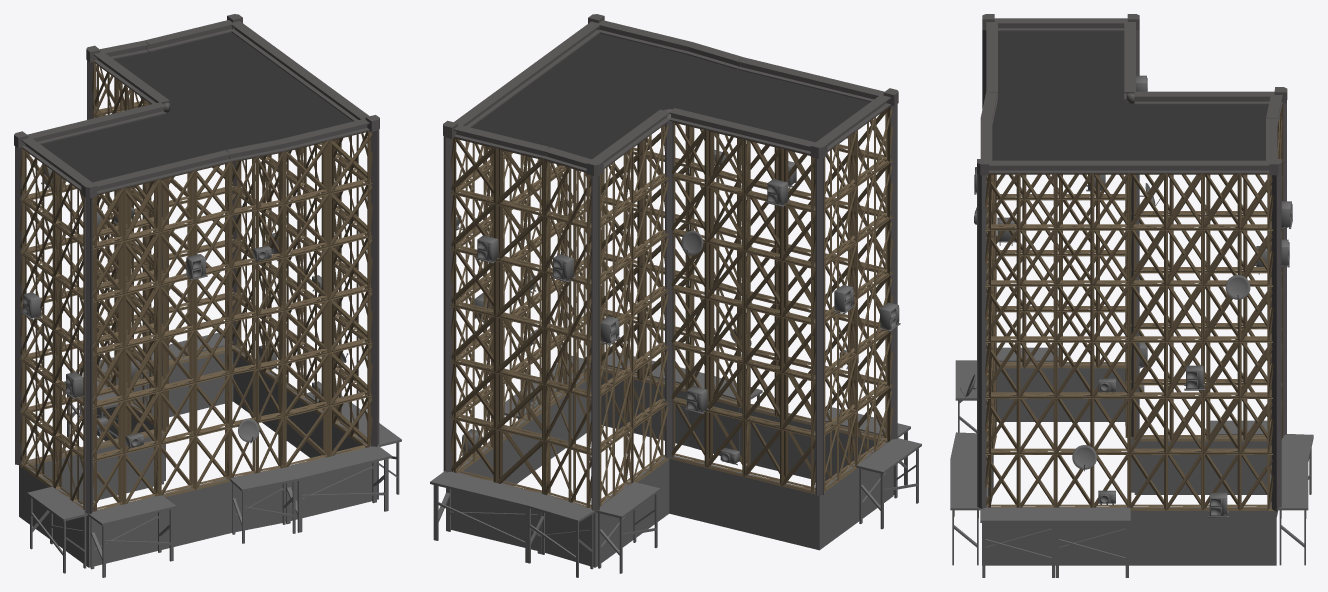
Rendered from constructionbuilding2.fbx.
The picture shows the model from 3 angles, left to right: view 1: azimuth 30°, elevation 25°; view 2: azimuth 150°, elevation 25°; view 3: azimuth 270°, elevation 25°; orthographic projection. The views are drawn at different scales.
Visible parts, largest first — view 1: building_base.003; view 2: building_base.003; view 3: building_base.003.
Boxes of the visible parts, <box> form: building_base.003: <box>14,14,401,577</box>; building_base.003: <box>430,14,921,577</box>; building_base.003: <box>950,14,1313,577</box>.
Bounding box in the file's own units: 1984 × 2159 × 1764.
